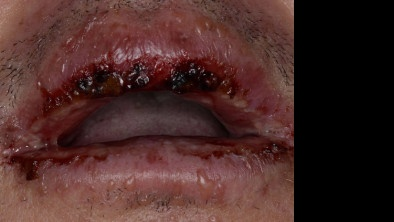SJS-TEN: (0, 0, 302, 222)
